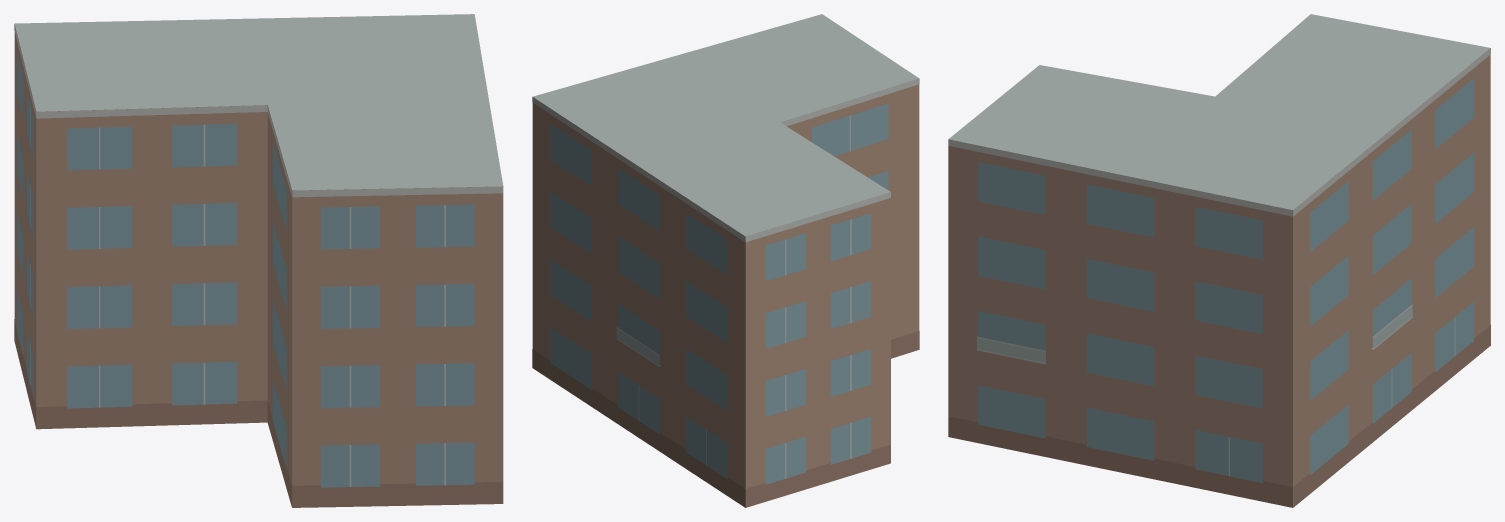
Rendered from survey-upis-32733036.glb.
3 renders of one model, left to right at view 1: azimuth 30°, elevation 25°; view 2: azimuth 150°, elevation 25°; view 3: azimuth 270°, elevation 25°, orthographic. The views are drawn at different scales.
Parts seen in each view (by area): view 1: survey-upis-32733036.tmp; view 2: survey-upis-32733036.tmp; view 3: survey-upis-32733036.tmp.
Boxes of the visible parts, bbox=[...] form: survey-upis-32733036.tmp: bbox=[14, 14, 503, 507]; survey-upis-32733036.tmp: bbox=[532, 14, 919, 507]; survey-upis-32733036.tmp: bbox=[948, 14, 1490, 507].
Bounding box in the file's own units: 15.98 × 11.3 × 18.67.
